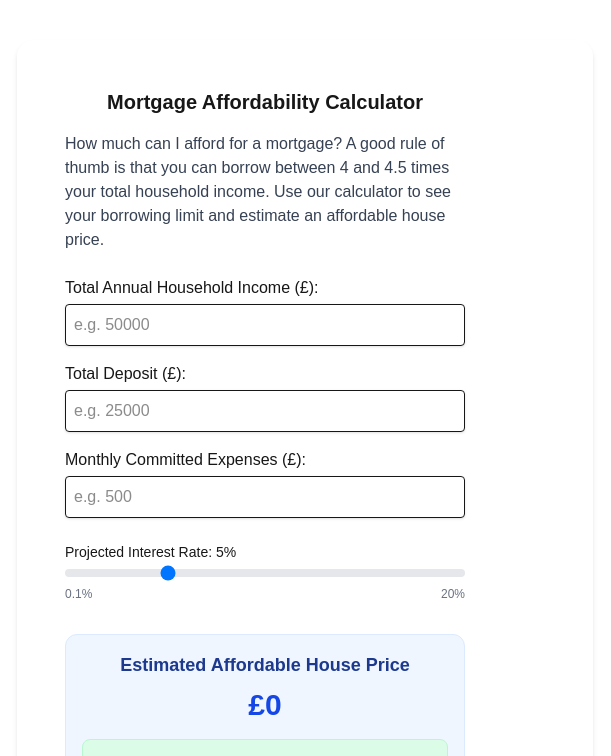
Scenario: AffordabilityCalculator › updates calculation when interest rate changes
Step 1. Type "50000" into the number field with placeholder "e.g. 50000" → (265, 325), box [65,304,465,346]
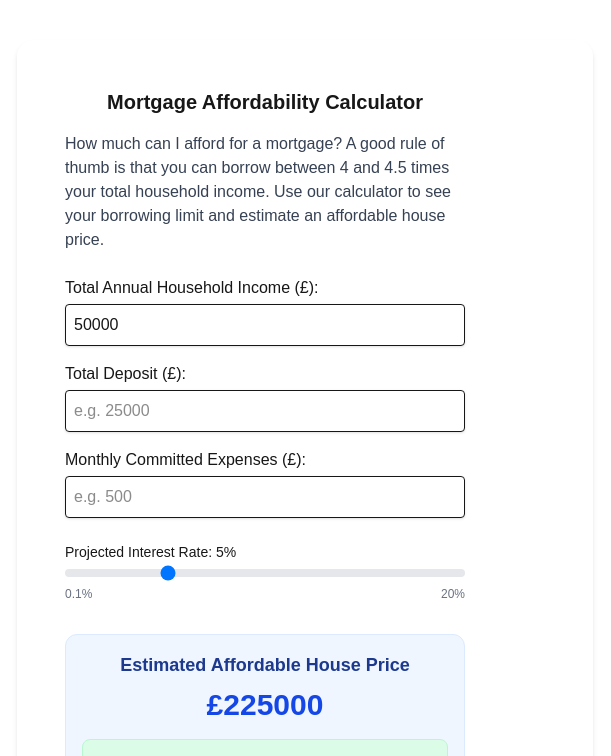
Check: the text "£225000" is shown, box [207,688,323,721]
Step 2. Set the slider labelled "Projected Interest Rate: 5%" to "10.0" → (264, 573), box [65,569,465,577]
(page scrolled)
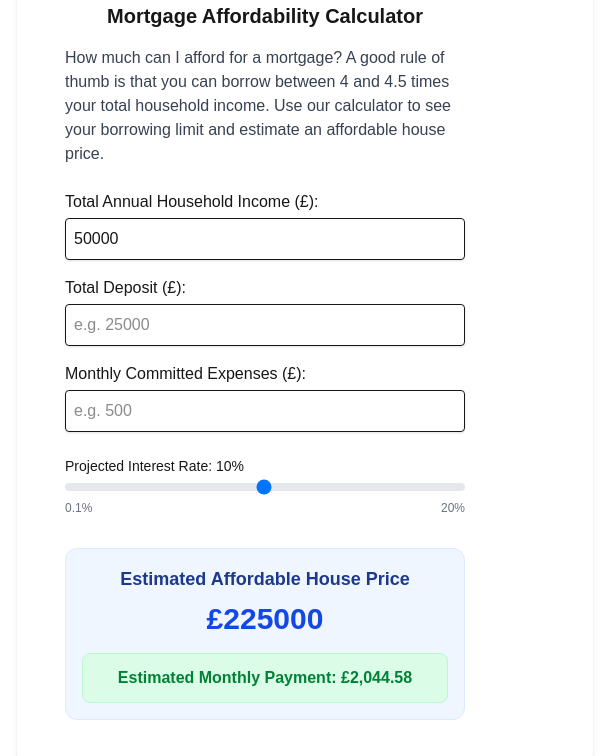
Check: the text "Estimated Monthly Payment: £2,044.58" is shown, box [82,653,448,703]
